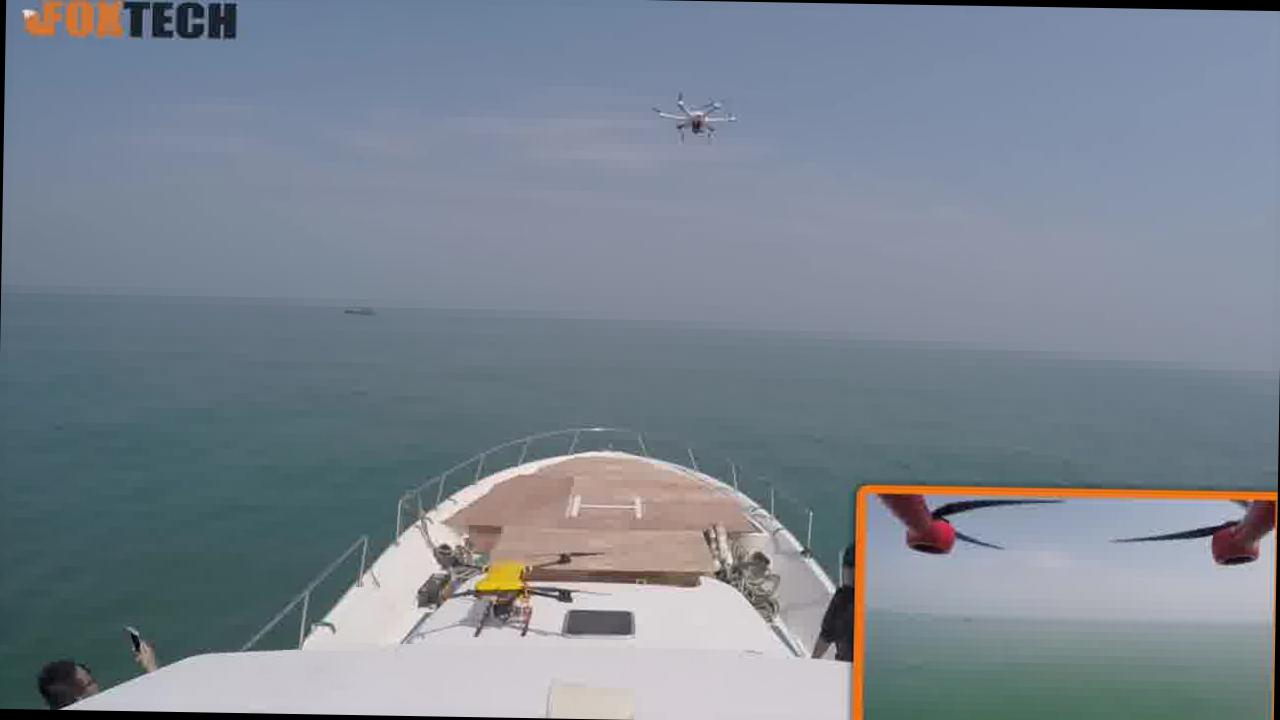drone: (654, 93, 738, 144)
